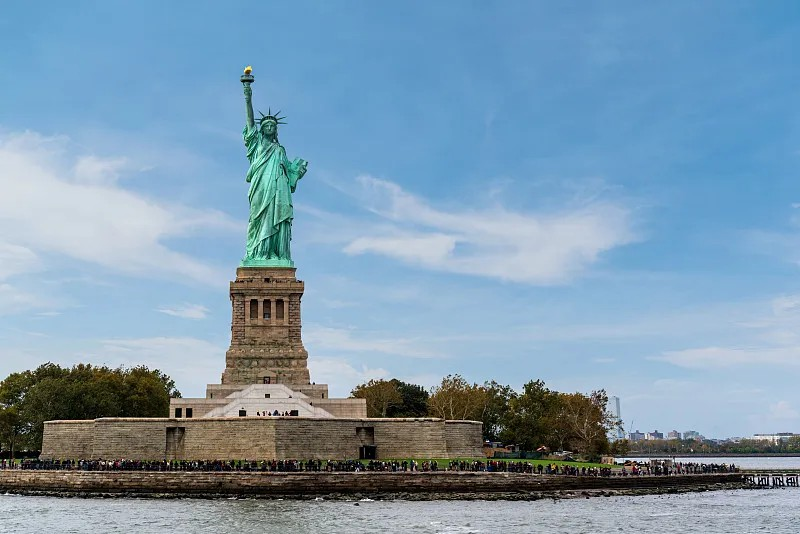SL: (220, 64, 311, 384)
